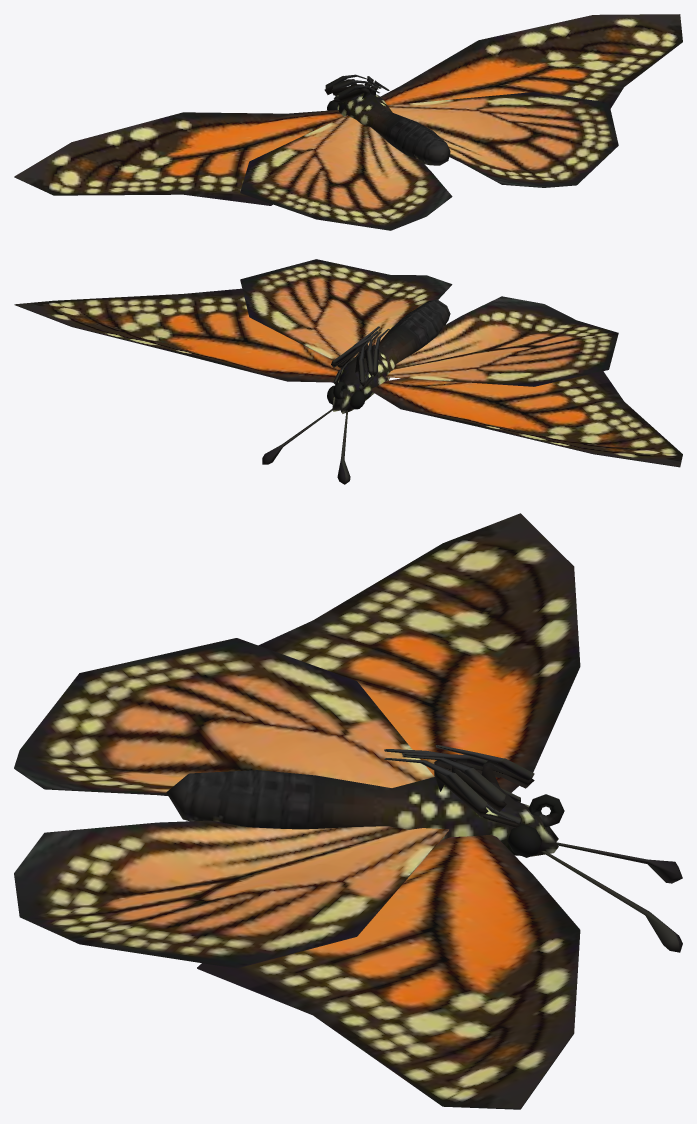
The model's file is monarch-butterfly.glb.
The picture shows the model from 3 angles, top to bottom: view 1: azimuth 30°, elevation 25°; view 2: azimuth 150°, elevation 25°; view 3: azimuth 270°, elevation 25°; orthographic projection. The views are drawn at different scales.
Visible parts, largest first — view 1: InsectOhkabamadara_node7; view 2: InsectOhkabamadara_node7; view 3: InsectOhkabamadara_node7.
Boxes of the visible parts, left/top/right/bottom form: InsectOhkabamadara_node7: left=14, top=14, right=682, bottom=230; InsectOhkabamadara_node7: left=14, top=259, right=682, bottom=484; InsectOhkabamadara_node7: left=14, top=513, right=682, bottom=1109.
Size of the model in its own units: 6.61 by 0.8733 by 3.14.
Materials: 1 (1 with a texture image).
